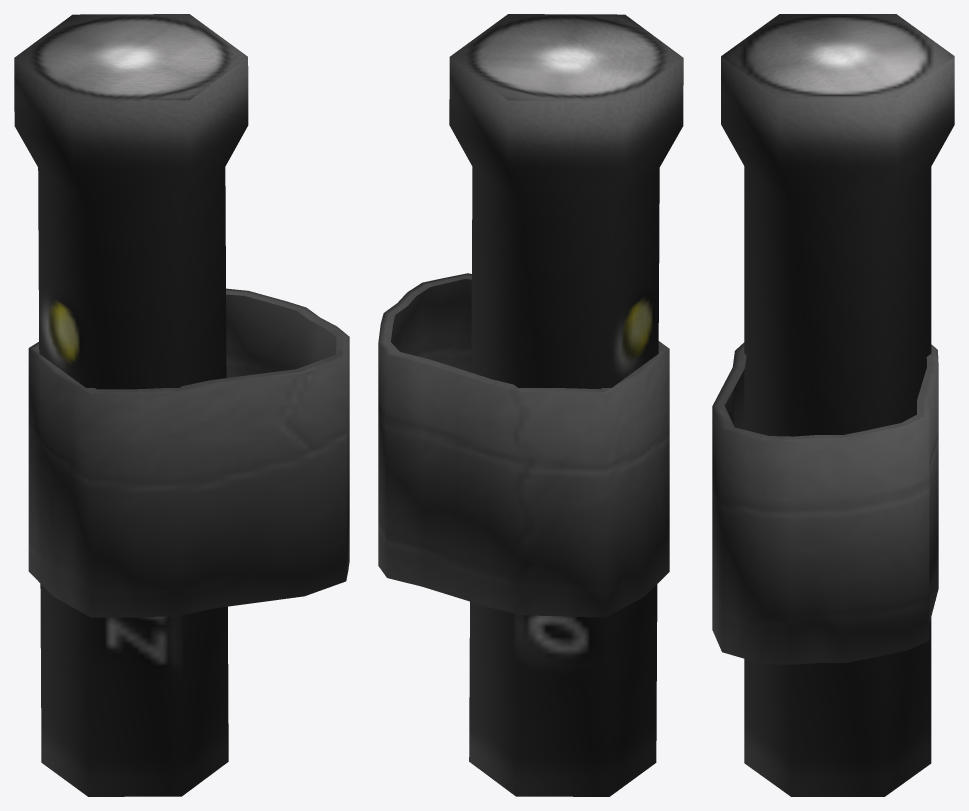
The model's file is TLOG_WeaponFlashlightMilitarySniper.fbx.
3 views of the same model, side by side, from view 1: azimuth 30°, elevation 25°; view 2: azimuth 150°, elevation 25°; view 3: azimuth 270°, elevation 25° (orthographic).
Parts seen in each view (by area): view 1: FlashlightMilitarySniper; view 2: FlashlightMilitarySniper; view 3: FlashlightMilitarySniper.
Boxes of the visible parts, x1,y1,x2,y2 form: FlashlightMilitarySniper: (14, 14, 349, 796); FlashlightMilitarySniper: (378, 14, 683, 796); FlashlightMilitarySniper: (712, 14, 954, 796).
Size of the model in its own units: 0.0539 by 0.1384 by 0.0419.
